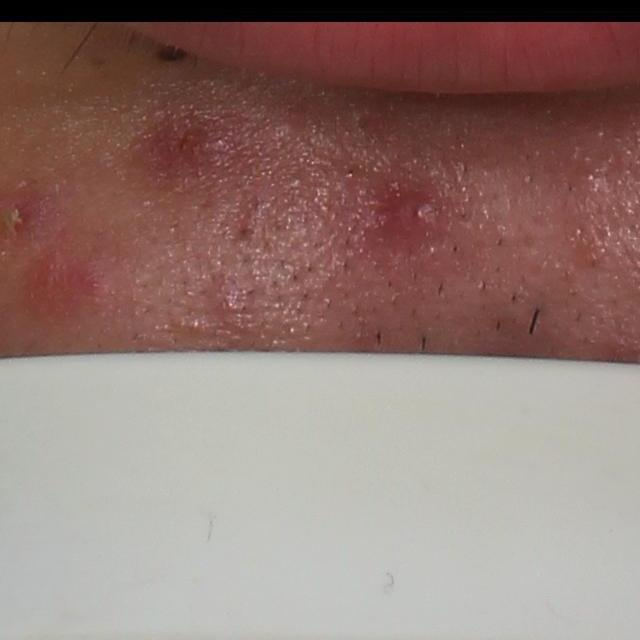nevus: (153, 39, 187, 62)
papule: (149, 111, 244, 173), (391, 192, 444, 244)
